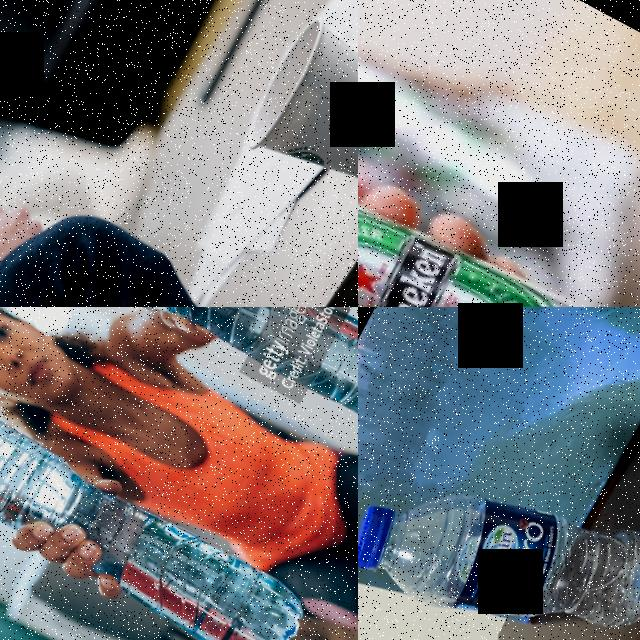bottle: (0, 356, 323, 640), (358, 399, 640, 640), (0, 307, 358, 443)
can: (358, 103, 640, 307)
cup: (236, 9, 358, 208)
